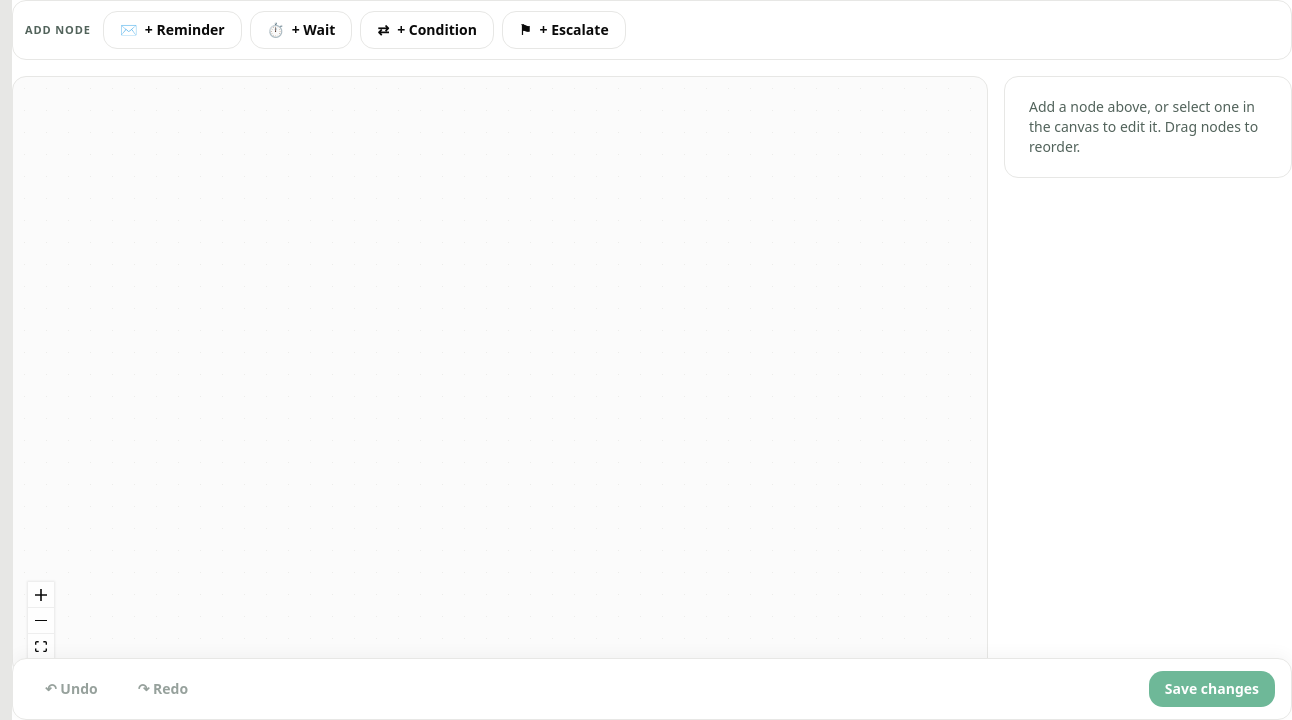
FlowCanvas › adds a typed node from the palette and marks the flow dirty
Click the button "⚑ + Escalate" at (564, 30), box [502,11,626,49]
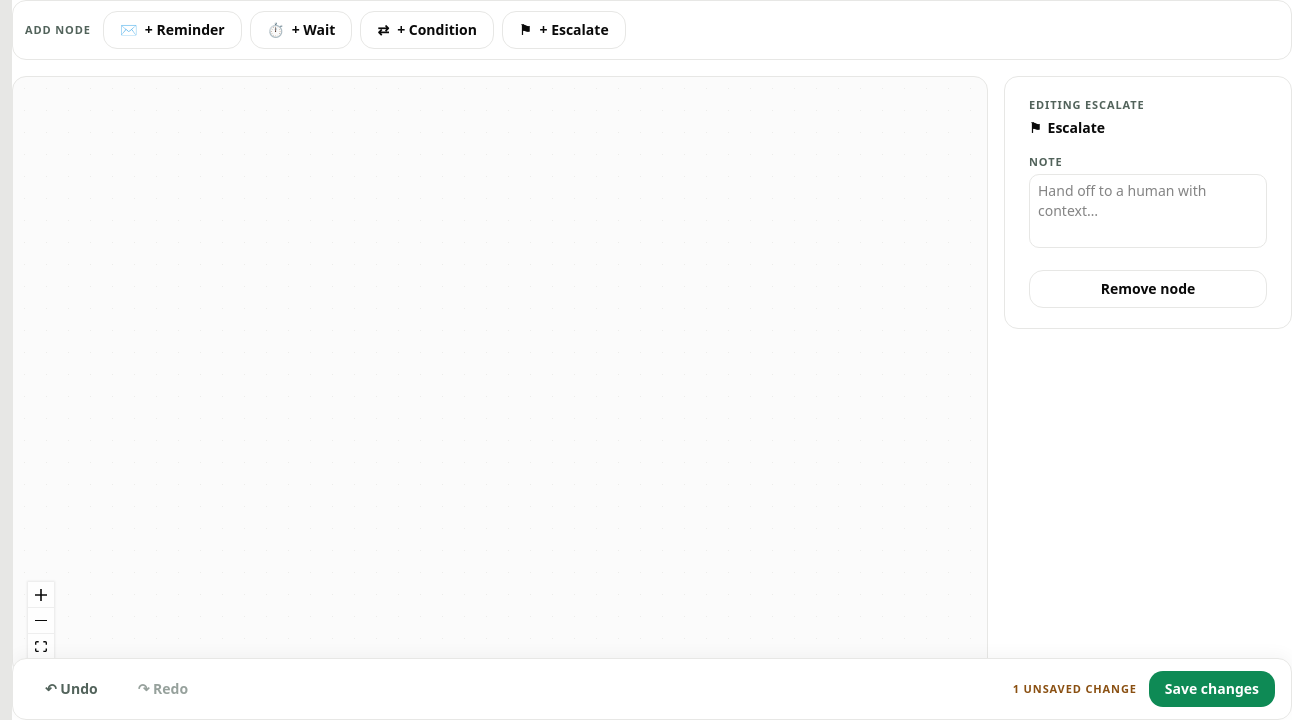
Expected: the button "Save changes" is enabled, [1149,671,1275,707]
